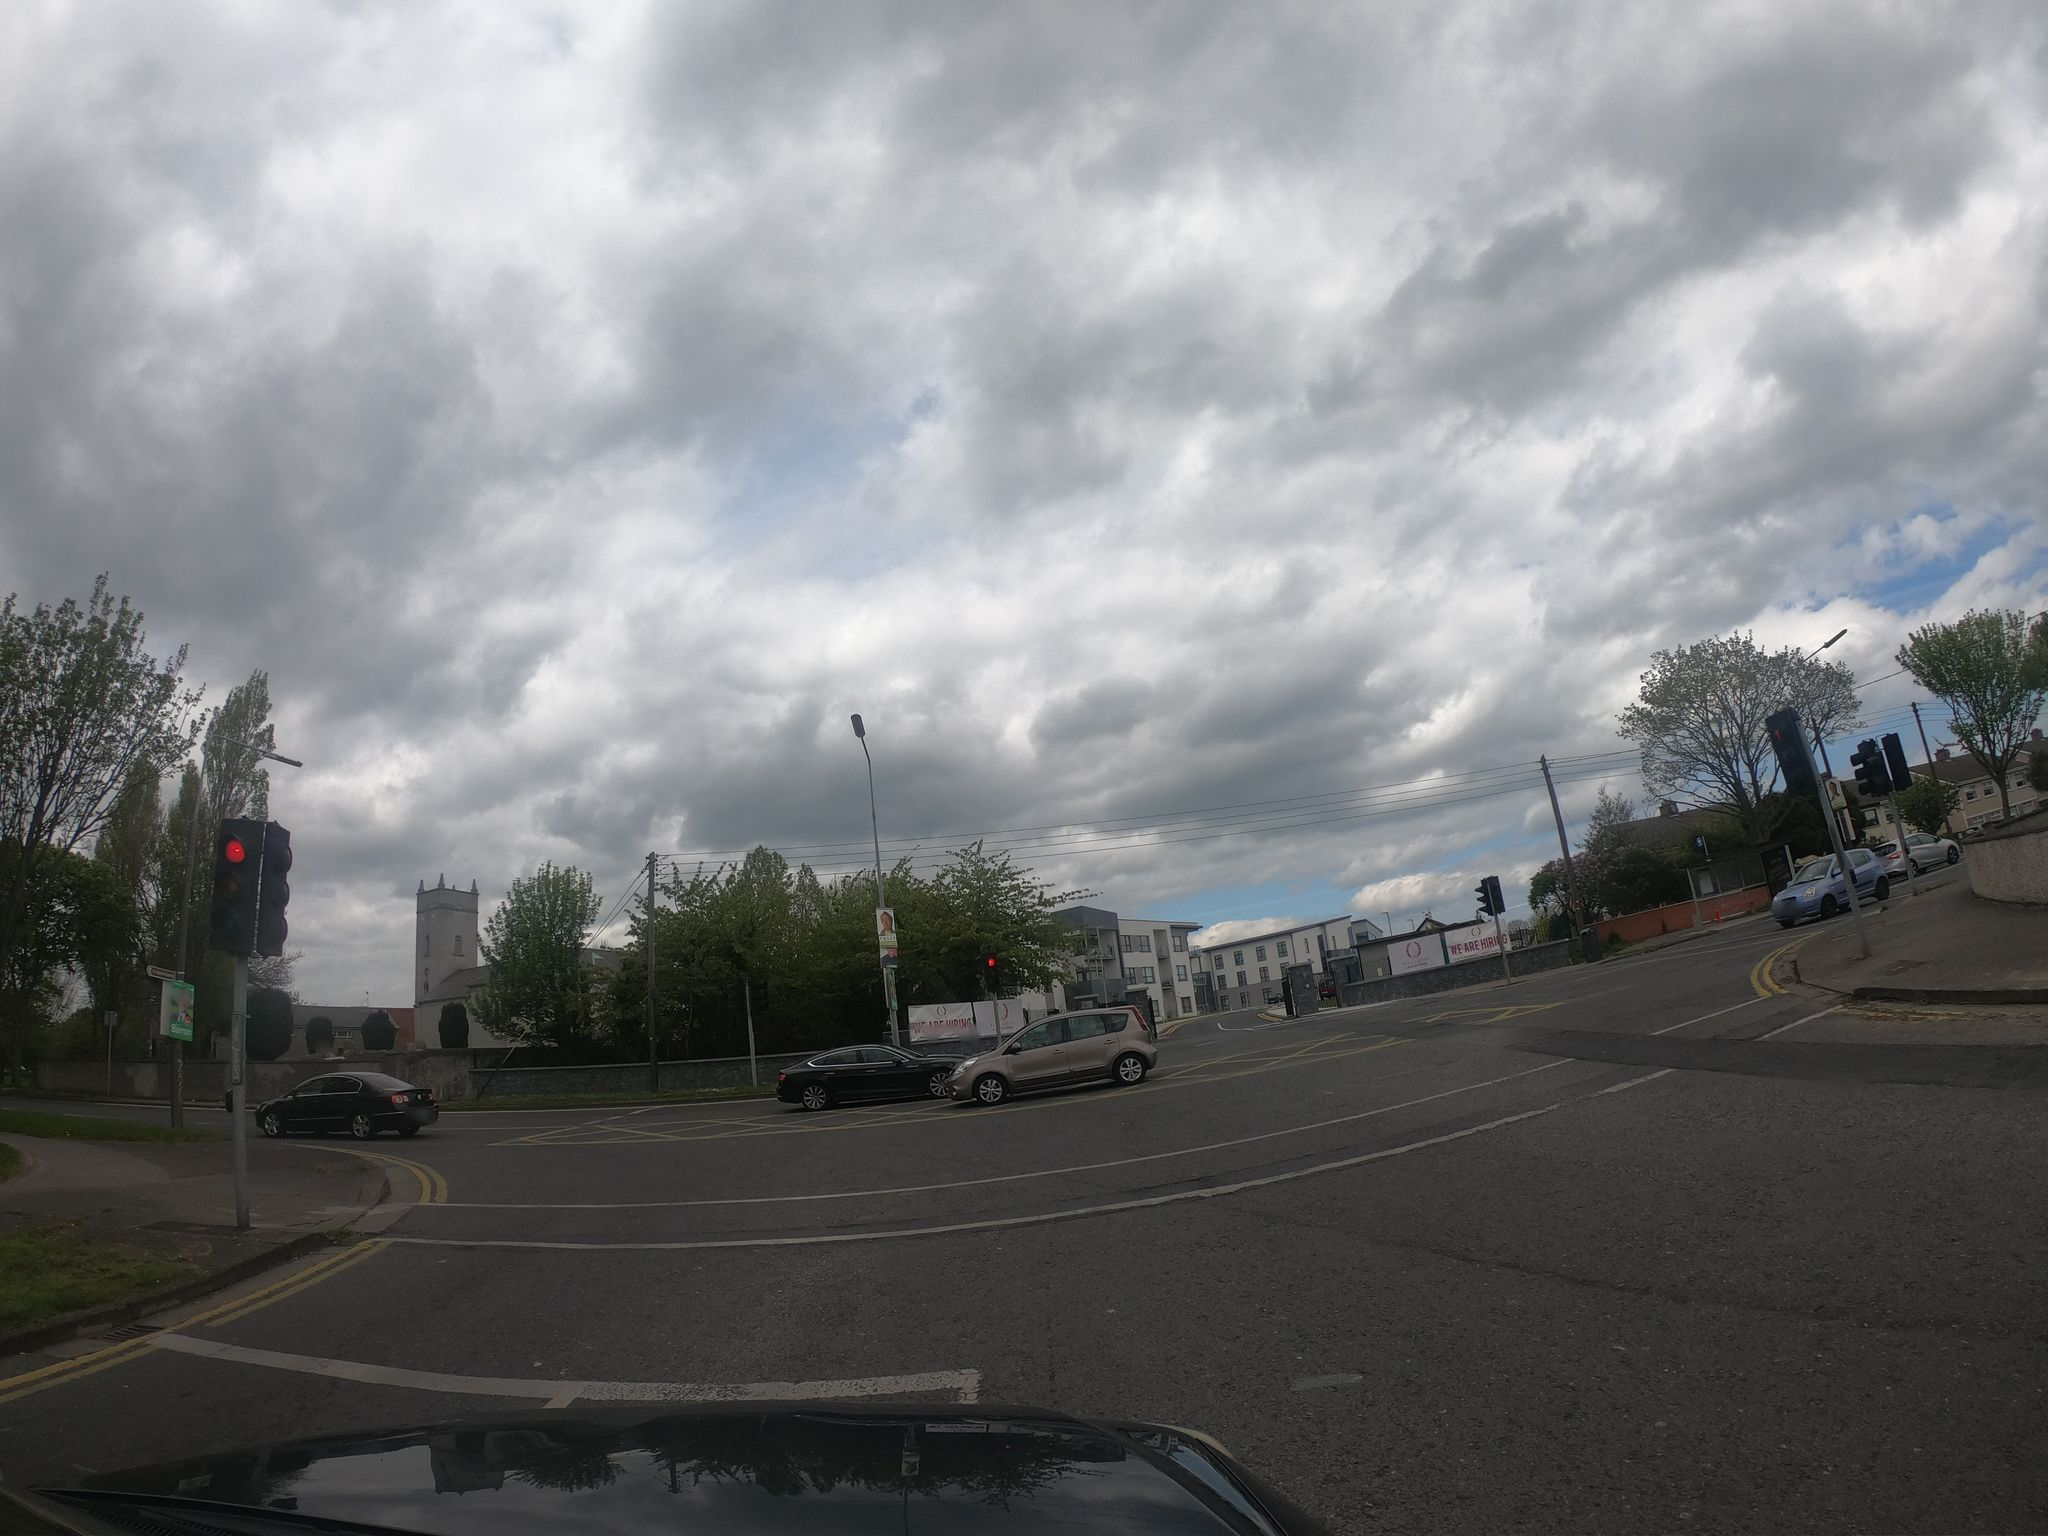vinyl banner: (897, 986, 992, 1050), (1434, 908, 1519, 971)
